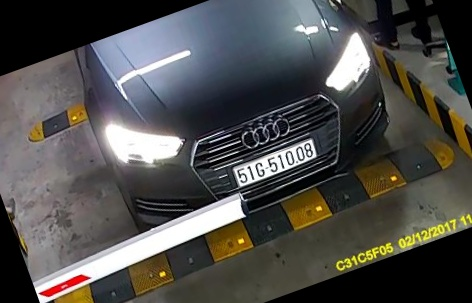plate: (226, 138, 323, 189)
